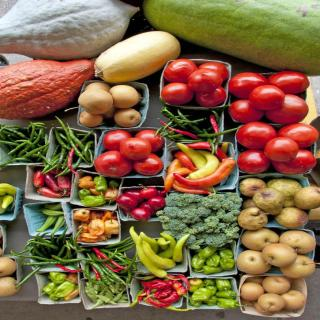tomato: (266, 93, 312, 125), (273, 147, 315, 173), (276, 122, 319, 147), (236, 119, 282, 142), (229, 72, 269, 98), (266, 70, 310, 93), (94, 150, 132, 176), (250, 84, 286, 110), (134, 153, 172, 176), (162, 58, 198, 82), (238, 149, 270, 175), (160, 81, 194, 105), (233, 96, 262, 123), (266, 138, 300, 161), (196, 85, 228, 109), (186, 70, 220, 92), (120, 137, 150, 160), (134, 130, 166, 151), (102, 130, 132, 152), (198, 61, 230, 80)
